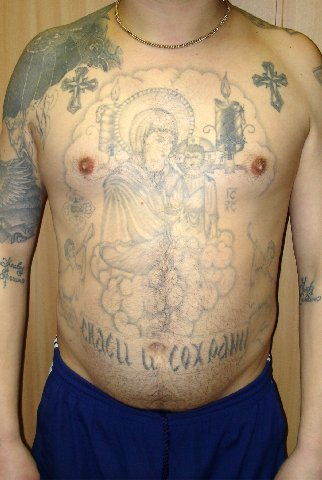tatu2_bogorodica: (99, 92, 221, 294)
tatu3_bukva: (77, 312, 260, 372)
